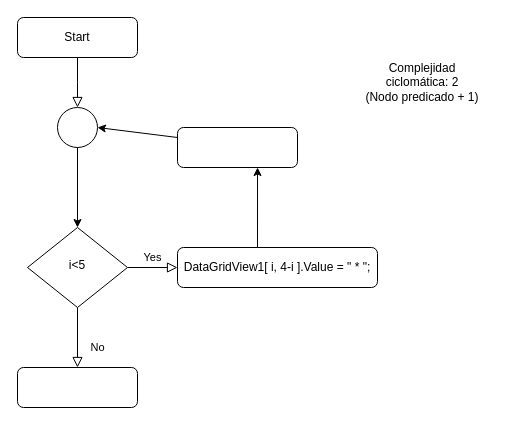
Some shapes in this 505 by 425 pixel diagram are drawn without their labels. Each missing label, with the centre of its shape:
"End" goes at (x=77, y=387).
"i++" goes at (x=237, y=147).
